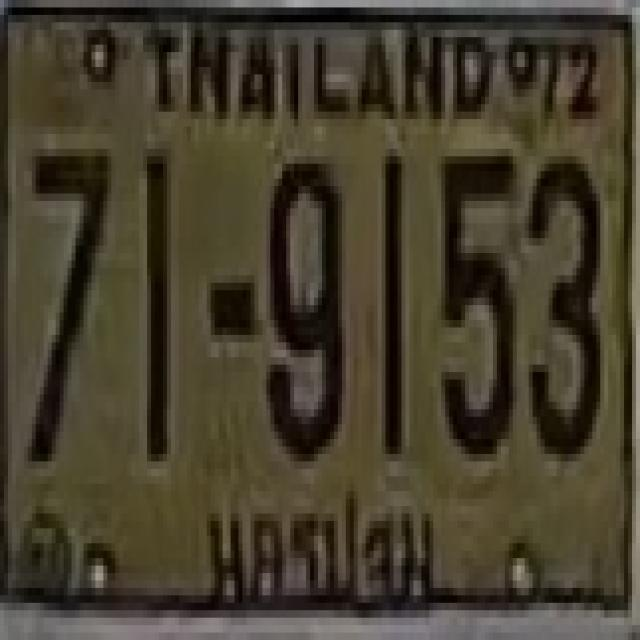1: (143, 149, 167, 454), (382, 153, 402, 450)
3: (525, 153, 596, 450)
5: (437, 149, 513, 454)
7: (28, 141, 107, 454)
9: (266, 156, 342, 454)
NPT: (196, 479, 451, 635)
